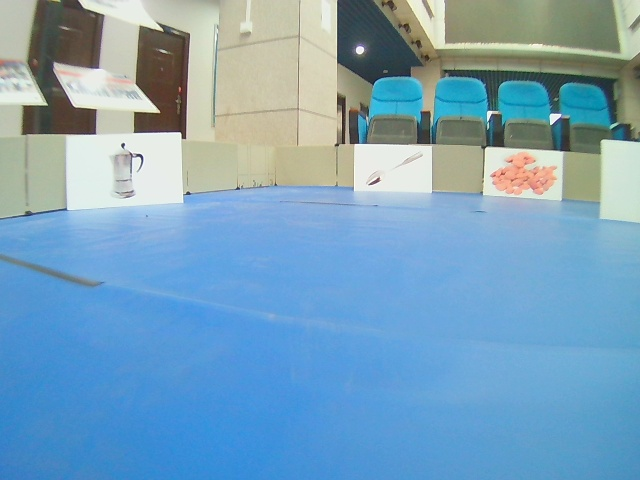dish: (65, 134, 187, 211), (354, 144, 434, 195)
food: (483, 146, 564, 202)
